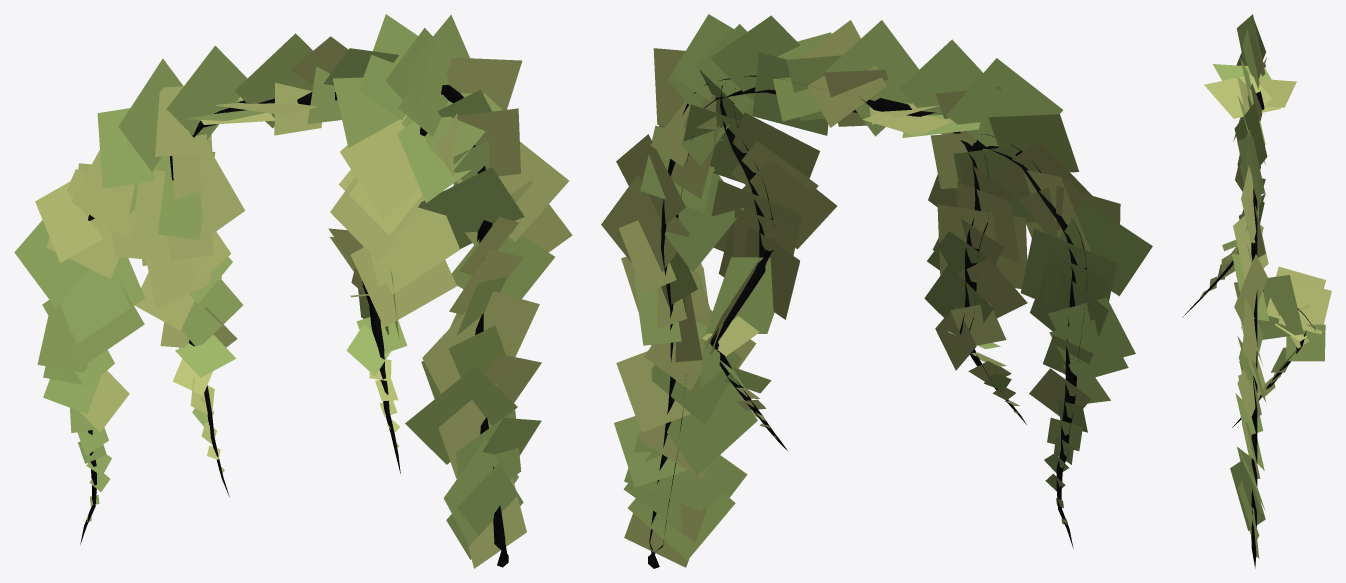
The model's file is Vine - wall 02.fbx.
3 views of the same model, side by side, from view 1: azimuth 30°, elevation 25°; view 2: azimuth 150°, elevation 25°; view 3: azimuth 270°, elevation 25° (orthographic). The views are drawn at different scales.
Parts seen in each view (by area): view 1: Vine_wall02_LOD0; view 2: Vine_wall02_LOD0; view 3: Vine_wall02_LOD0.
Boxes of the visible parts, x1,y1,x2,y2 form: Vine_wall02_LOD0: [14, 14, 572, 568]; Vine_wall02_LOD0: [601, 14, 1152, 568]; Vine_wall02_LOD0: [1182, 14, 1331, 568].
Size of what is drawn, in the model's own units: 2.04 by 0.6569 by 2.1.
